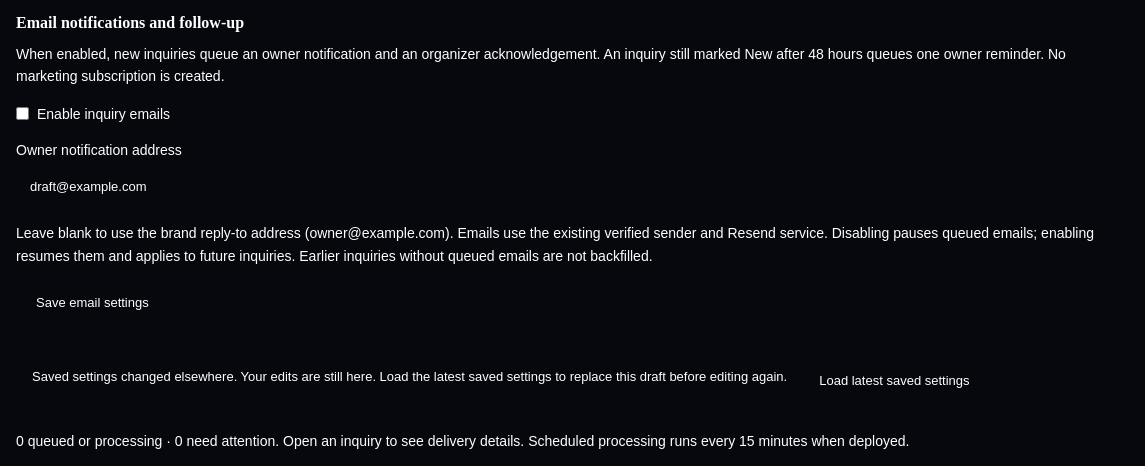
Scenario: speaking email configuration and status › preserves an unsaved recipient and original baseline across a background refresh
Earlier steps of the test are not shown.
Expected: the field labelled "Owner notification address" holds "draft@example.com", x1=16 y1=168 x2=1128 y2=206
Expected: the checkbox labelled "Enable inquiry emails" is not checked, x1=16 y1=107 x2=29 y2=120
What coordinates should you click on to do the following:
click the button "Load latest saved settings"
I would click on:
 (894, 380)
Its box is x1=799 y1=361 x2=990 y2=400.
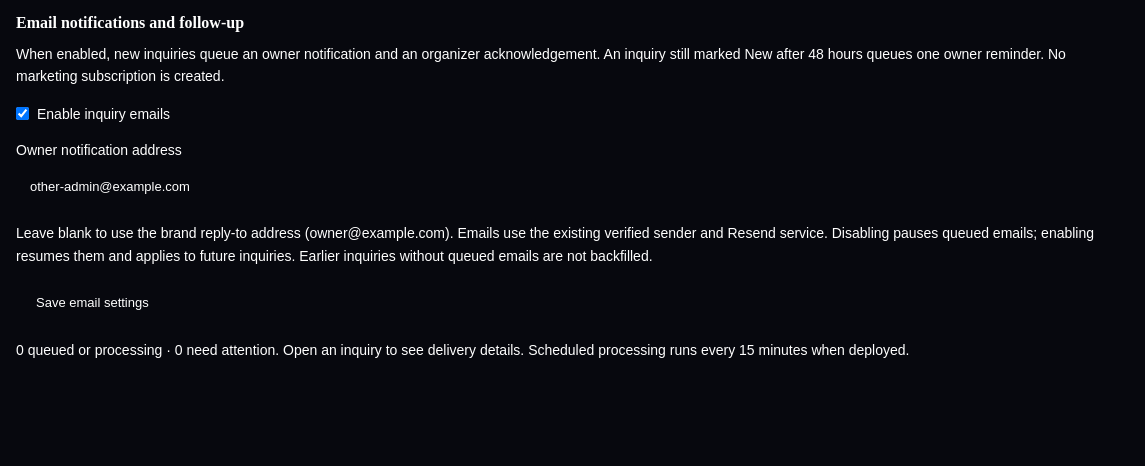
Result: the field labelled "Owner notification address" holds "other-admin@example.com" at x1=16 y1=168 x2=1128 y2=206
Result: the checkbox labelled "Enable inquiry emails" is checked at x1=16 y1=107 x2=29 y2=120
Result: the message is gone
